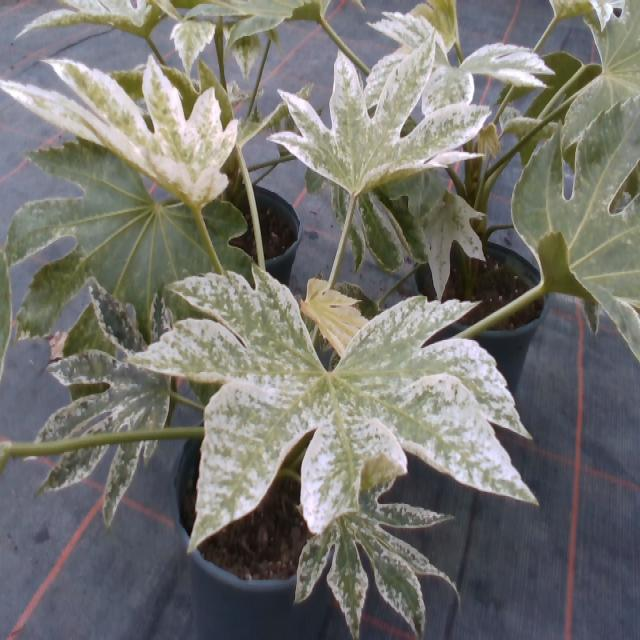Fatsia-japonica: (140, 236, 544, 574), (21, 105, 253, 379), (0, 46, 237, 224), (278, 40, 488, 211), (30, 282, 179, 518), (510, 100, 640, 369), (281, 496, 465, 640), (408, 184, 488, 308), (20, 0, 170, 54), (364, 2, 457, 77), (186, 0, 339, 44), (294, 274, 366, 360), (577, 0, 640, 92), (461, 44, 550, 100), (424, 60, 479, 130), (165, 18, 219, 75)
